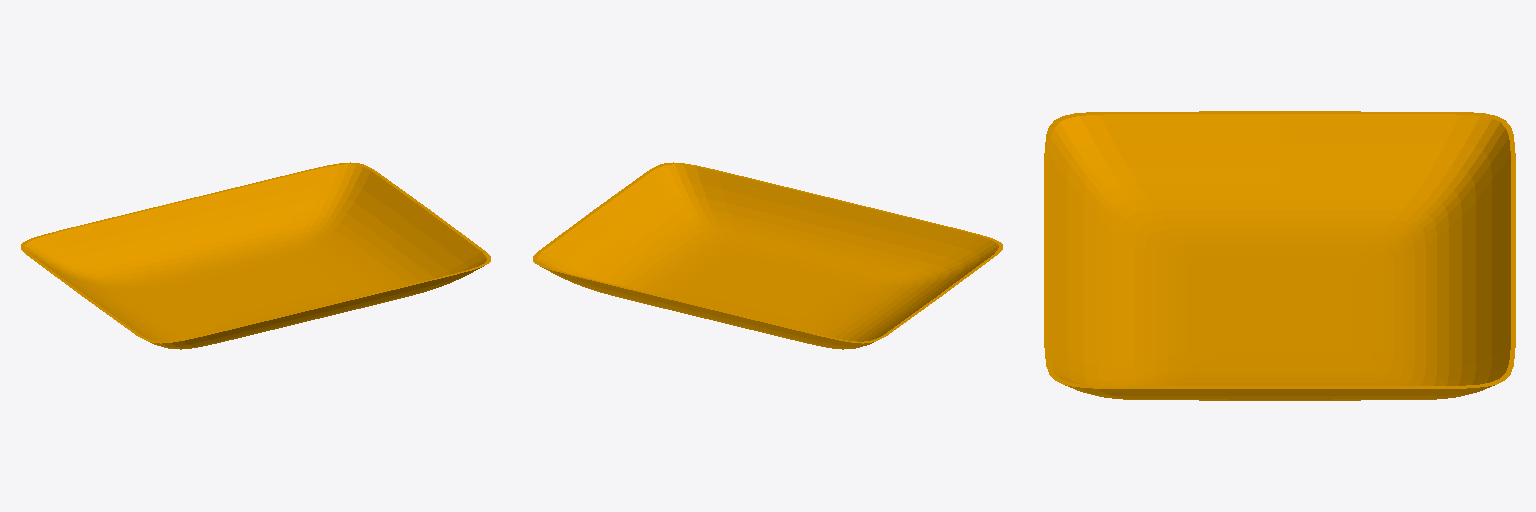
URDF robot description (object_478613922):

		<robot name="object_478613922">
			<link name="link_object_478613922">
				<visual>
					<geometry>
						<mesh filename="temp_object_478613922.obj" />
					</geometry>
				</visual>

				<collision>
					<geometry>
						<mesh filename="temp_object_478613922.obj" />
					</geometry>
				</collision>
				
				<inertial>
					<origin rpy="0 0 0" xyz="0 0 0"/>
					<mass value="0.3" />
					<inertia ixx="0.3" ixy="0" ixz="0" iyy="0.3" iyz="0" izz="0.3" />
				</inertial>
			</link>
		</robot>
		

--- Render facts (derived) ---
The picture shows the robot from 3 angles, left to right: view 1: azimuth 30°, elevation 25°; view 2: azimuth 150°, elevation 25°; view 3: azimuth 270°, elevation 25°; orthographic projection.
Model object_478613922 with 1 links and 0 joints (none), rooted at link_object_478613922, posed every joint at zero.
Visible links, largest first — view 1: link_object_478613922; view 2: link_object_478613922; view 3: link_object_478613922.
Boxes of the visible links, x1,y1,x2,y2 form: link_object_478613922: (21,162,490,349); link_object_478613922: (533,162,1002,349); link_object_478613922: (1044,111,1515,400).
Bounding box of the posed robot: 0.2348 × 0.1682 × 0.0242 m (x, y, z).
1 mesh visuals loaded from 1 distinct referenced files (1 OBJ).
